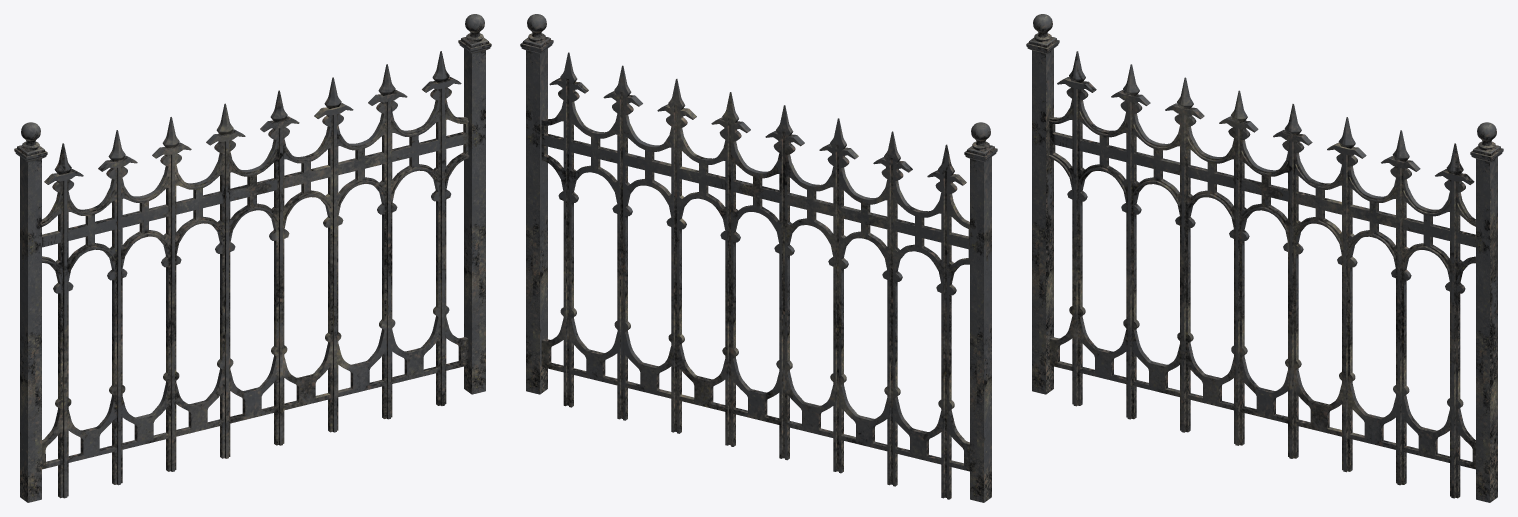
The model's file is uploads_files_7146045_MetalRailing.fbx.
3 views of the same model, side by side, from view 1: azimuth 30°, elevation 25°; view 2: azimuth 150°, elevation 25°; view 3: azimuth 330°, elevation 25° (orthographic).
Parts seen in each view (by area): view 1: Cube20.001; view 2: Cube20.001; view 3: Cube20.001.
Part boxes in pixels (<box>): Cube20.001: <box>14,14,491,502</box>; Cube20.001: <box>520,14,997,502</box>; Cube20.001: <box>1026,14,1503,502</box>.
Bounding box in the file's own units: 0.0939 × 2.08 × 1.63.
